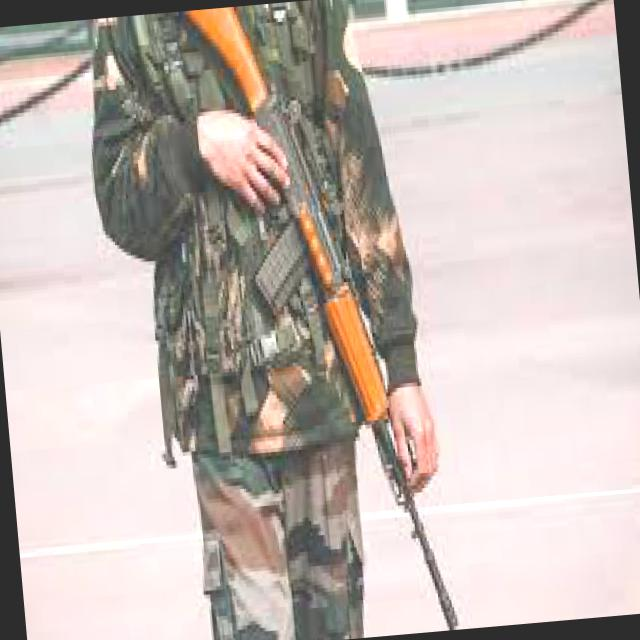long weapon: (180, 2, 488, 623)
